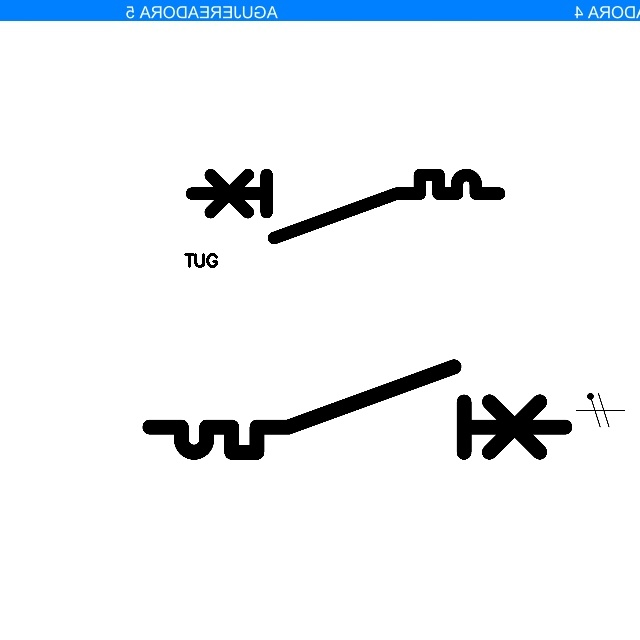interruptor_termomagnetico: (139, 356, 575, 463), (184, 167, 507, 246)
